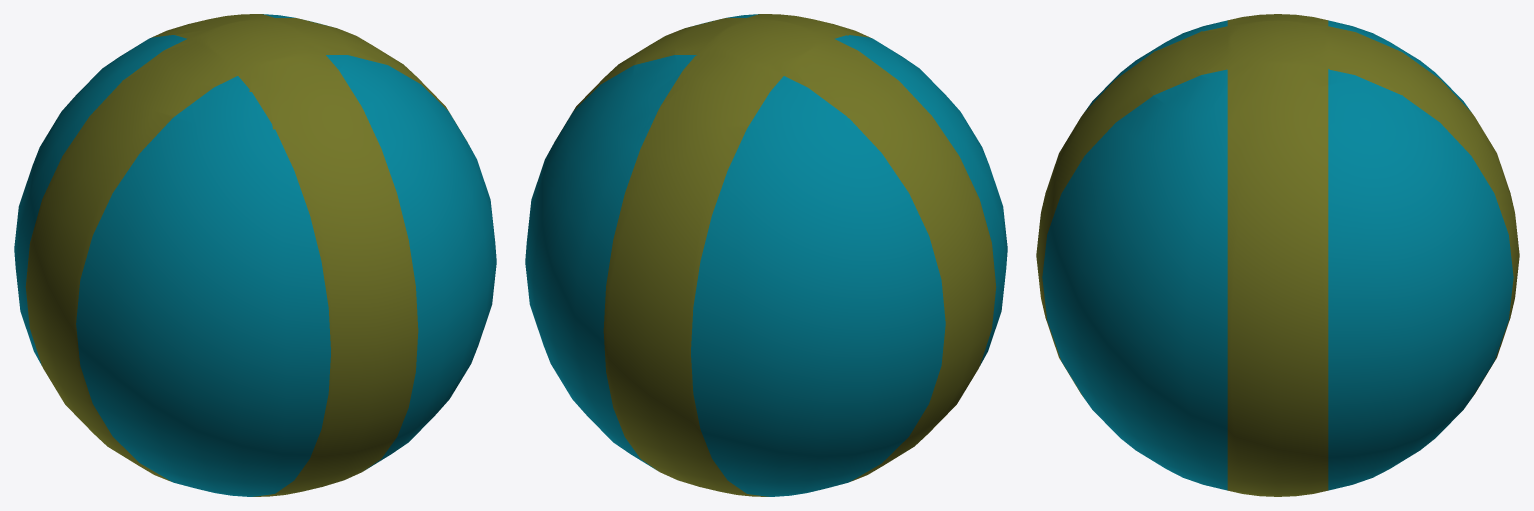
3 renders of one model, left to right at view 1: azimuth 30°, elevation 25°; view 2: azimuth 150°, elevation 25°; view 3: azimuth 270°, elevation 25°, orthographic.
Parts seen in each view (by area): view 1: Объект_Сфера; view 2: Объект_Сфера; view 3: Объект_Сфера.
Part boxes in pixels (x1,y1,x2,y2): Объект_Сфера: (14,14,496,496); Объект_Сфера: (525,14,1007,496); Объект_Сфера: (1036,14,1519,496).
Size of the model in its own units: 100 by 100 by 100.
